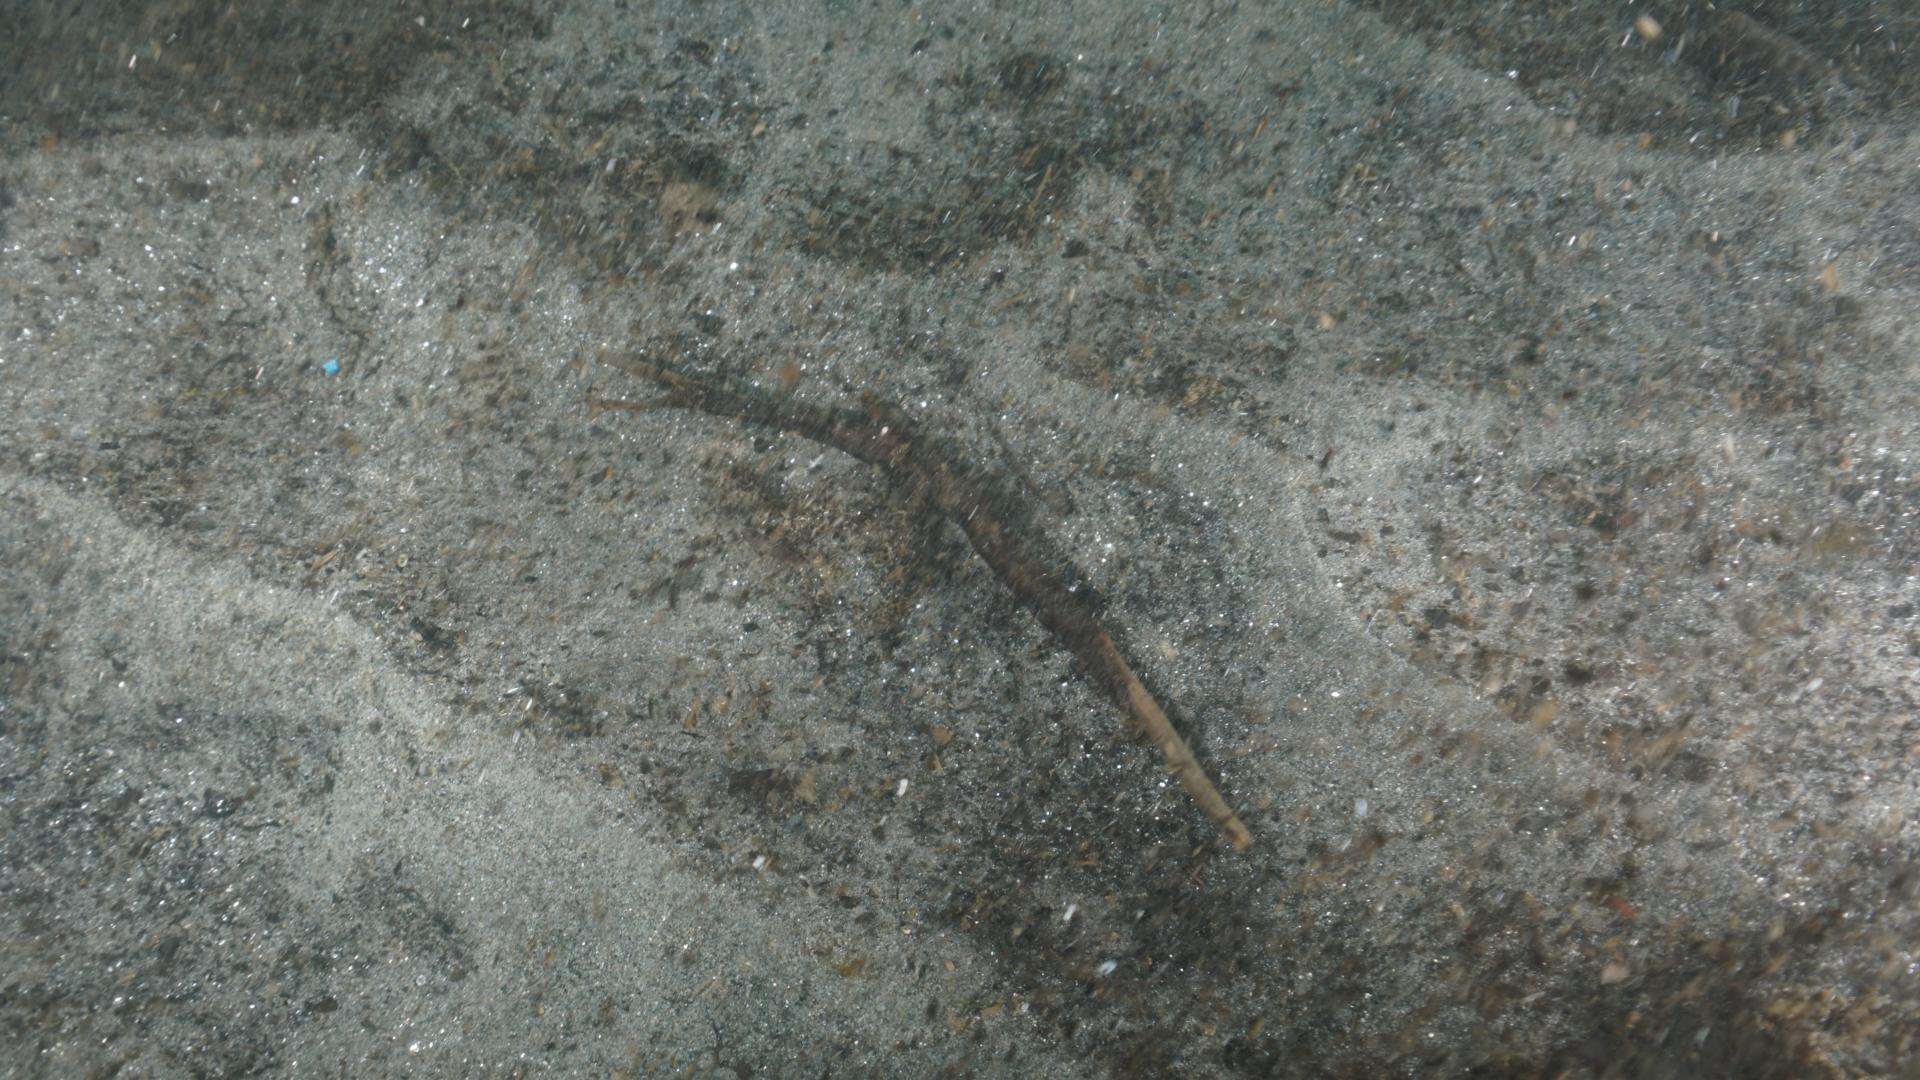wood: (585, 345, 1251, 847)
